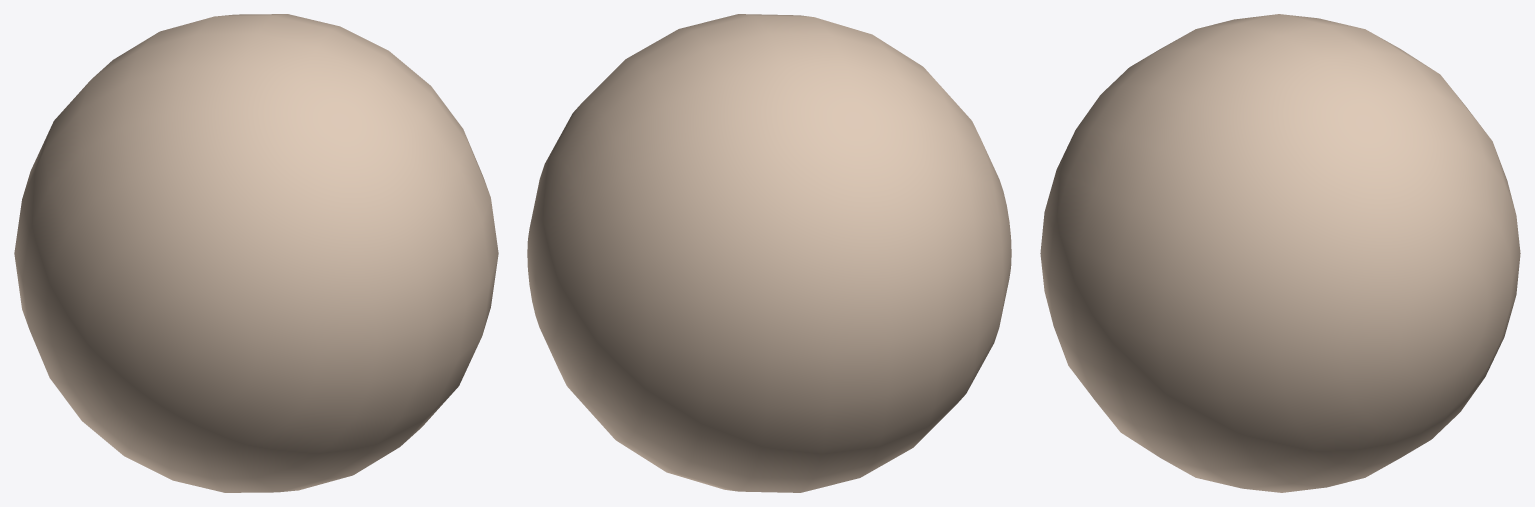
The model's file is Moon_Lamp_Light.fbx.
3 views of the same model, side by side, from view 1: azimuth 30°, elevation 25°; view 2: azimuth 150°, elevation 25°; view 3: azimuth 270°, elevation 25° (orthographic).
Visible parts, largest first — view 1: Moon_Lamp_Light; view 2: Moon_Lamp_Light; view 3: Moon_Lamp_Light.
Boxes of the visible parts, box(x1,y1,x2,y2) form: Moon_Lamp_Light: box(14, 14, 498, 492); Moon_Lamp_Light: box(527, 14, 1011, 492); Moon_Lamp_Light: box(1040, 14, 1520, 492).
Bounding box in the file's own units: 36.28 × 36.28 × 36.28.
